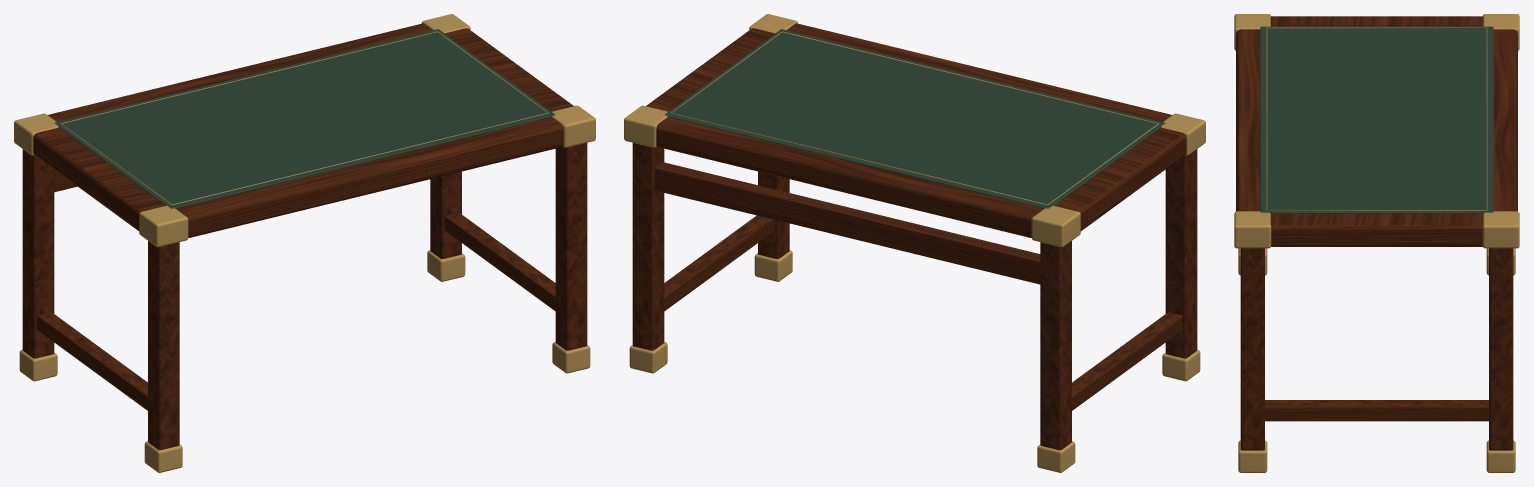
File: estacoes_mesa_investigacao.glb
3 views of the same model, side by side, from view 1: azimuth 30°, elevation 25°; view 2: azimuth 150°, elevation 25°; view 3: azimuth 270°, elevation 25° (orthographic).
Parts seen in each view (by area): view 1: mesa_investigacao; view 2: mesa_investigacao; view 3: mesa_investigacao.
Part boxes in pixels (bbox=[...]): mesa_investigacao: bbox=[14, 14, 595, 472]; mesa_investigacao: bbox=[624, 14, 1205, 472]; mesa_investigacao: bbox=[1234, 14, 1519, 472].
Size of the model in its own units: 1.36 by 0.7453 by 0.77.
Materials: 3 (1 with a texture image).
